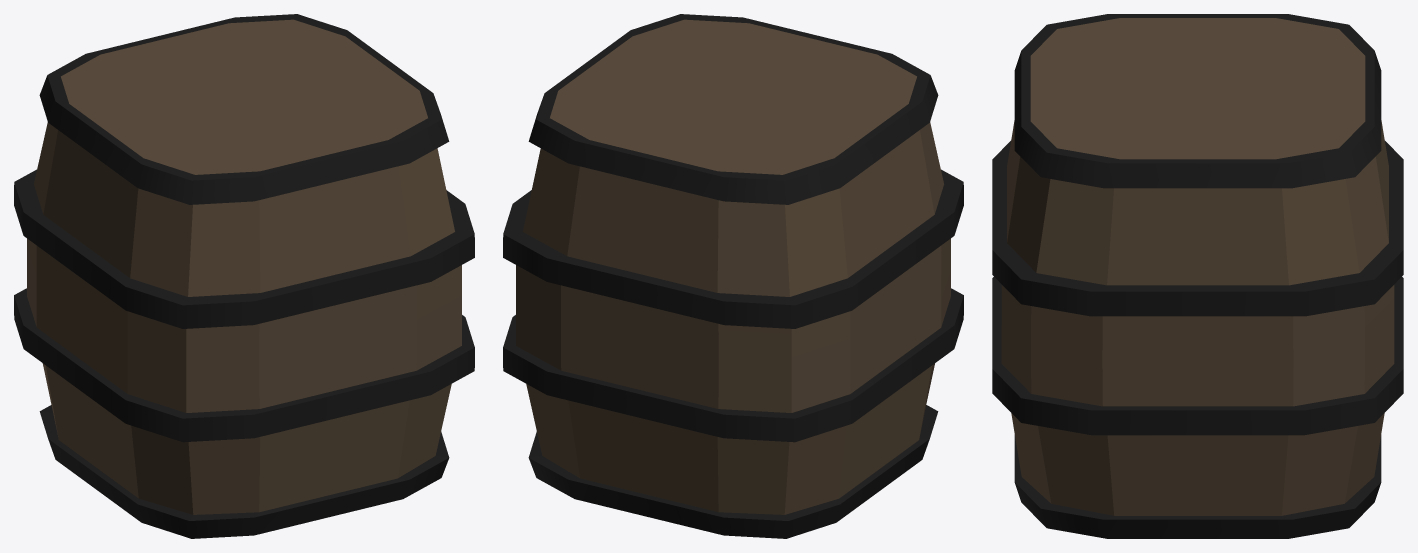
Rendered from Barrel.fbx.
3 renders of one model, left to right at view 1: azimuth 30°, elevation 25°; view 2: azimuth 150°, elevation 25°; view 3: azimuth 270°, elevation 25°, orthographic. The views are drawn at different scales.
Visible parts, largest first — view 1: Barrel; view 2: Barrel; view 3: Barrel.
Part boxes in pixels (x1=…): Barrel: x1=14, y1=14, x2=474, y2=538; Barrel: x1=503, y1=14, x2=963, y2=538; Barrel: x1=992, y1=14, x2=1403, y2=538.
Bounding box in the file's own units: 0.9925 × 1 × 0.9925.
1 material, 1 textured.
